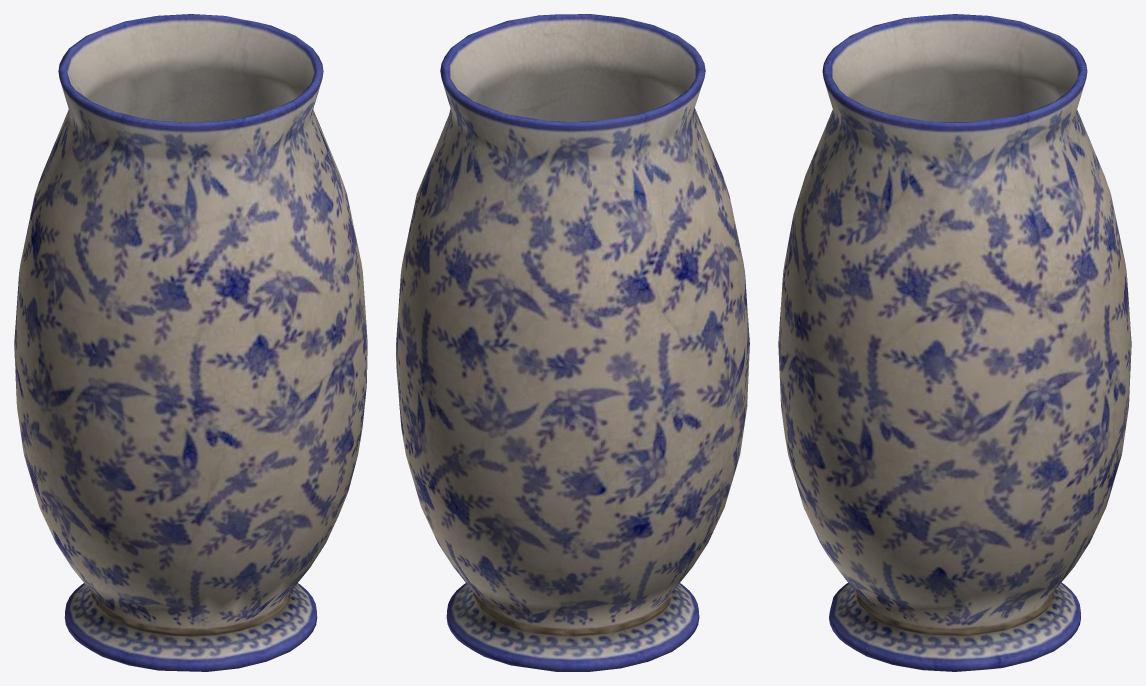
The model's file is antique_ceramic_vase_01.glb.
3 renders of one model, left to right at view 1: azimuth 30°, elevation 25°; view 2: azimuth 150°, elevation 25°; view 3: azimuth 270°, elevation 25°, orthographic.
Parts seen in each view (by area): view 1: antique_ceramic_vase_01; view 2: antique_ceramic_vase_01; view 3: antique_ceramic_vase_01.
Boxes of the visible parts, bbox=[...] form: antique_ceramic_vase_01: bbox=[14, 14, 367, 671]; antique_ceramic_vase_01: bbox=[396, 14, 749, 671]; antique_ceramic_vase_01: bbox=[778, 14, 1131, 671].
Bounding box in the file's own units: 0.255 × 0.4396 × 0.255.
Materials: 1 (1 with a texture image).
